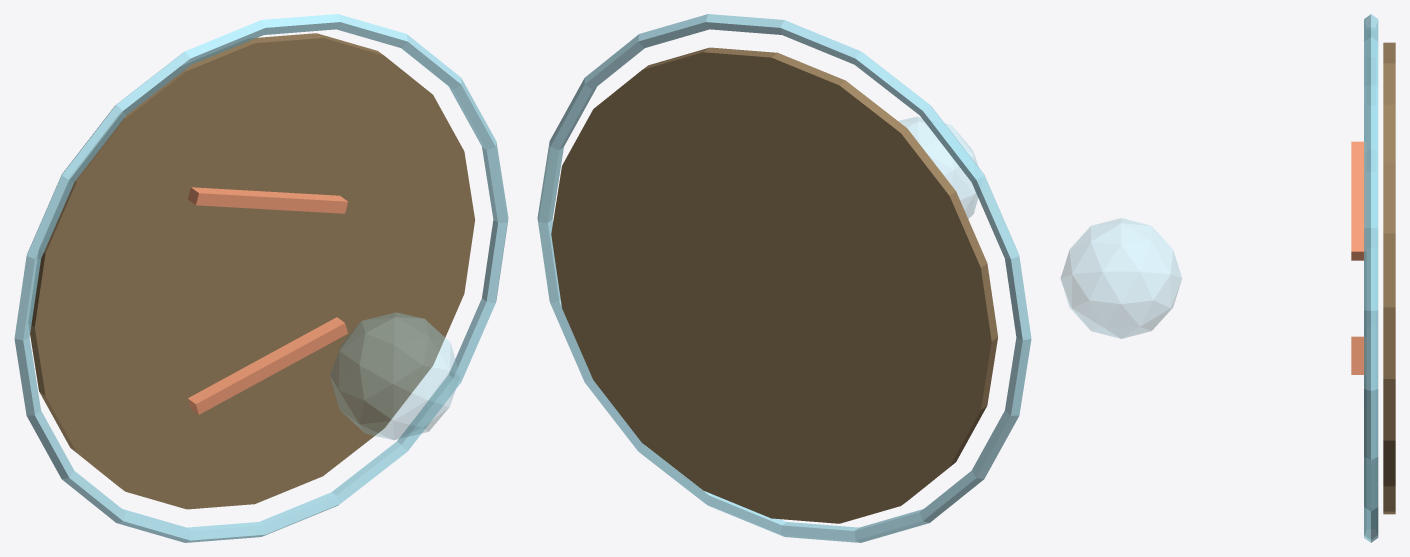
Rendered from 07_weather_terrain_nature_effect.glb.
3 renders of one model, left to right at view 1: azimuth 30°, elevation 25°; view 2: azimuth 150°, elevation 25°; view 3: azimuth 270°, elevation 25°, orthographic. The views are drawn at different scales.
Parts seen in each view (by area): view 1: terrain_patch, weather_boundary, weather_orb, terrain_marker_a, terrain_marker_b; view 2: terrain_patch, weather_boundary, weather_orb; view 3: weather_orb, weather_boundary, terrain_patch, terrain_marker_b, terrain_marker_a.
Part boxes in pixels (x1,y1,x2,y2): terrain_patch: (29, 33, 474, 509); weather_boundary: (14, 14, 508, 542); weather_orb: (330, 312, 459, 439); terrain_marker_a: (188, 317, 347, 414); terrain_marker_b: (188, 187, 347, 213); terrain_patch: (551, 47, 997, 523); weather_boundary: (537, 14, 1031, 542); weather_orb: (898, 117, 978, 218); weather_orb: (1060, 218, 1181, 338); weather_boundary: (1364, 14, 1378, 542); terrain_patch: (1383, 42, 1395, 514); terrain_marker_b: (1351, 141, 1365, 260); terrain_marker_a: (1351, 336, 1365, 374).
Bounding box in the file's own units: 1.75 × 1.75 × 1.1.
